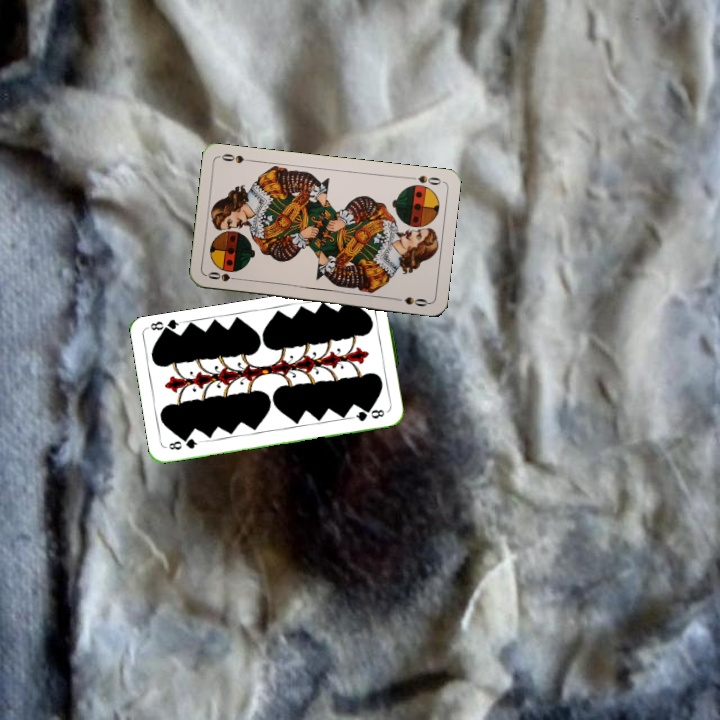G8: (165, 434, 203, 453)
SO: (204, 267, 244, 284), (404, 171, 443, 188)
